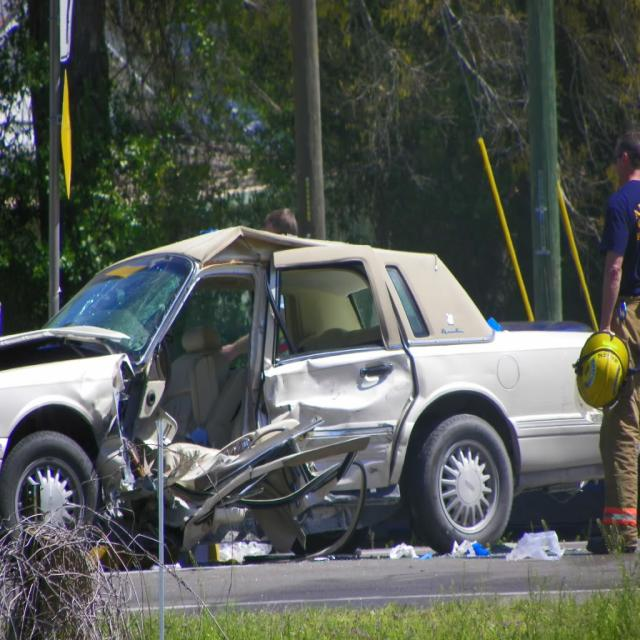crush: (0, 227, 425, 554)
